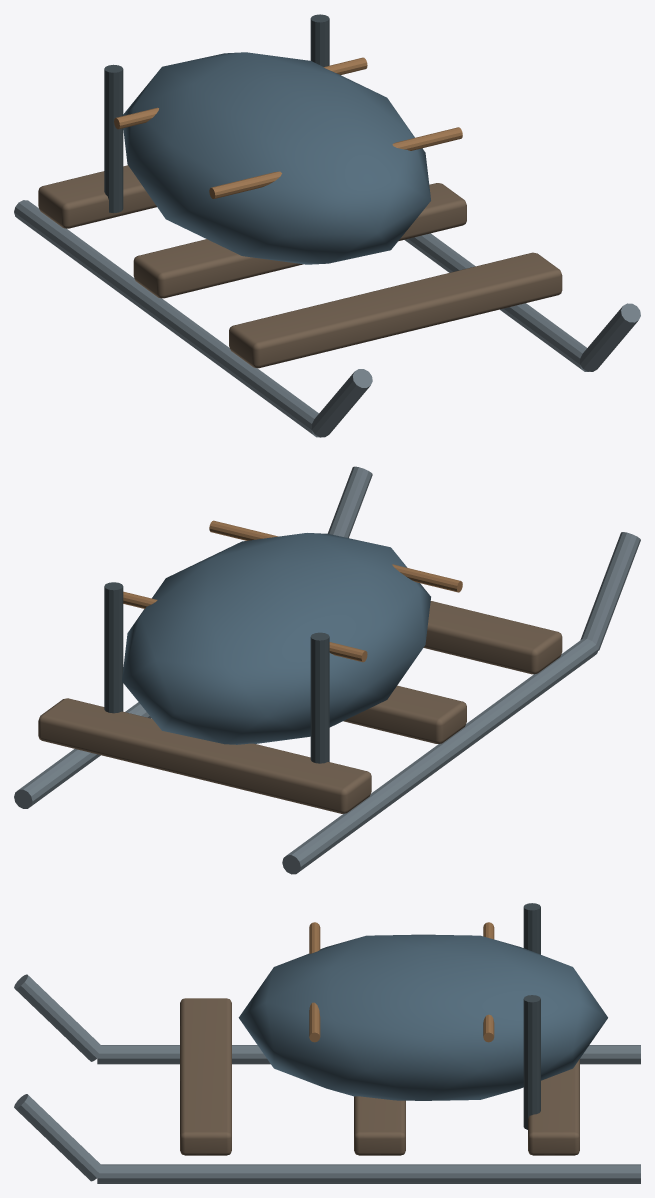
The model's file is sled.glb.
3 views of the same model, one above another, from view 1: azimuth 30°, elevation 25°; view 2: azimuth 150°, elevation 25°; view 3: azimuth 270°, elevation 25° (orthographic). The views are drawn at different scales.
Parts seen in each view (by area): view 1: Cargo, Slat, Runner, Slat.001, Slat.002, Runner.001, Upright, Tip, Tip.001, Strap, Upright.001, Strap.001; view 2: Cargo, Slat.002, Runner, Slat, Slat.001, Upright, Upright.001, Tip, Runner.001, Tip.001, Strap, Strap.001; view 3: Cargo, Runner.001, Slat, Slat.002, Runner, Slat.001, Upright.001, Tip, Tip.001, Upright, Strap, Strap.001.
Boxes of the visible parts, x1,y1,x2,y2 form: Cargo: [123, 52, 430, 264]; Slat: [229, 252, 562, 368]; Runner: [14, 200, 320, 437]; Slat.001: [133, 183, 466, 298]; Slat.002: [38, 165, 156, 228]; Runner.001: [404, 233, 589, 371]; Upright: [104, 64, 123, 213]; Tip: [311, 369, 372, 437]; Tip.001: [580, 303, 640, 371]; Strap: [209, 127, 462, 198]; Upright.001: [310, 14, 329, 66]; Strap.001: [114, 57, 367, 129]; Cargo: [122, 533, 430, 744]; Slat.002: [38, 698, 371, 813]; Runner: [282, 638, 598, 874]; Slat: [423, 601, 562, 674]; Slat.001: [343, 685, 466, 743]; Upright: [310, 632, 329, 763]; Upright.001: [104, 582, 123, 713]; Tip: [580, 532, 640, 650]; Runner.001: [14, 702, 151, 808]; Tip.001: [327, 466, 372, 538]; Strap: [209, 520, 462, 592]; Strap.001: [123, 591, 367, 662]; Cargo: [238, 934, 607, 1100]; Runner.001: [97, 1164, 640, 1183]; Slat: [180, 998, 231, 1155]; Slat.002: [528, 1059, 579, 1155]; Runner: [97, 1045, 640, 1064]; Slat.001: [354, 1096, 405, 1155]; Upright.001: [523, 995, 540, 1129]; Tip: [14, 974, 101, 1061]; Tip.001: [14, 1094, 101, 1181]; Upright: [523, 903, 540, 954]; Strap: [309, 922, 320, 1042]; Strap.001: [483, 922, 494, 1042].
Bounding box in the file's own units: 1.5 × 0.885 × 2.88.
